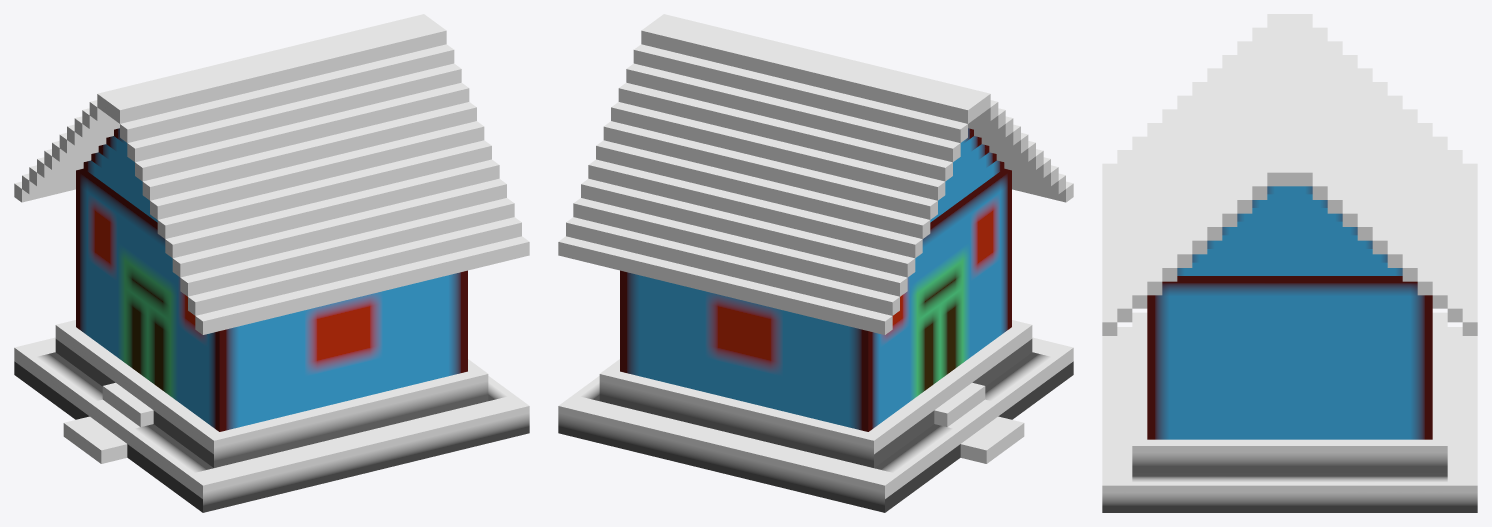
The model's file is House_2.fbx.
3 renders of one model, left to right at view 1: azimuth 30°, elevation 25°; view 2: azimuth 150°, elevation 25°; view 3: azimuth 270°, elevation 25°, orthographic.
Visible parts, largest first — view 1: House_2; view 2: House_2; view 3: House_2.
Part boxes in pixels (bbox=[...]): House_2: bbox=[14, 14, 529, 512]; House_2: bbox=[558, 14, 1073, 512]; House_2: bbox=[1102, 14, 1477, 512].
Size of the model in its own units: 27 by 25 by 25.
Materials: 1 (1 with a texture image).
